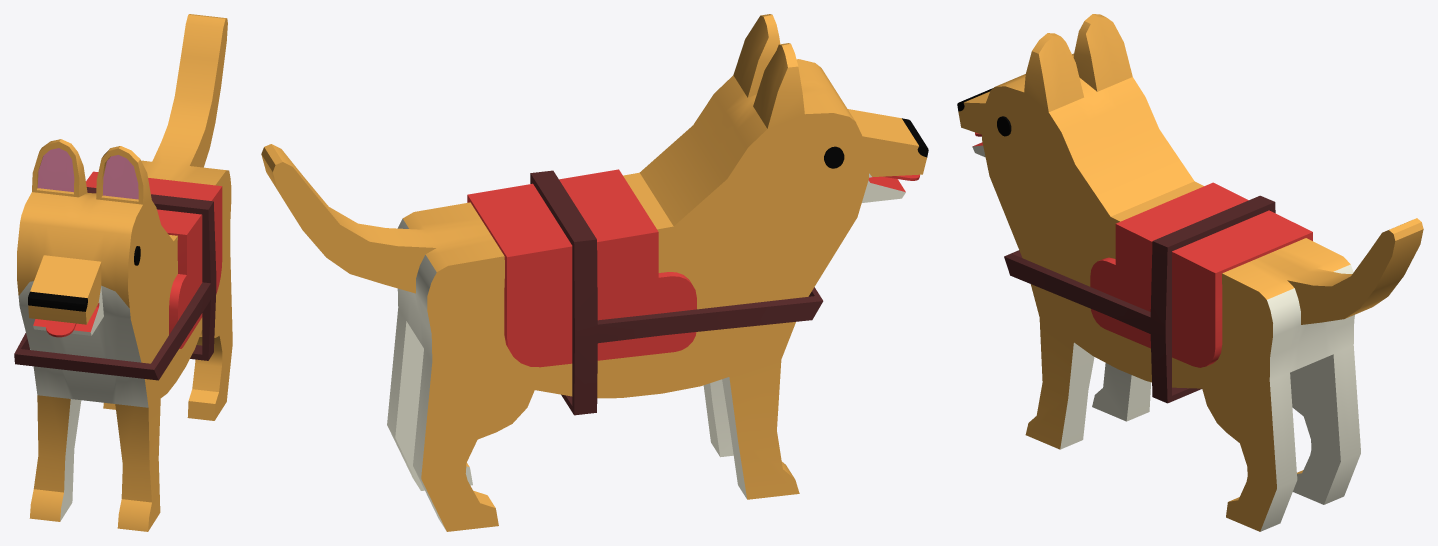
File: service_dog.gltf
The picture shows the model from 3 angles, left to right: view 1: azimuth 30°, elevation 25°; view 2: azimuth 150°, elevation 25°; view 3: azimuth 270°, elevation 25°; orthographic projection. The views are drawn at different scales.
Visible parts, largest first — view 1: Plane.002, Cube.6176, Cube.6177, Cube.002; view 2: Plane.002, Cube.6177, Cube.6176; view 3: Plane.002, Cube.6177, Cube.6176.
Part boxes in pixels (<box>): Plane.002: <box>17,14,232,531</box>; Cube.6176: <box>14,187,216,380</box>; Cube.6177: <box>86,171,222,348</box>; Cube.002: <box>46,320,76,337</box>; Plane.002: <box>261,14,928,531</box>; Cube.6177: <box>467,169,696,367</box>; Cube.6176: <box>530,170,823,415</box>; Plane.002: <box>957,14,1423,531</box>; Cube.6177: <box>1090,182,1312,367</box>; Cube.6176: <box>1004,195,1275,403</box>.
Bounding box in the file's own units: 2.06 × 1.91 × 2.06.
Materials: 1 (1 with a texture image).
